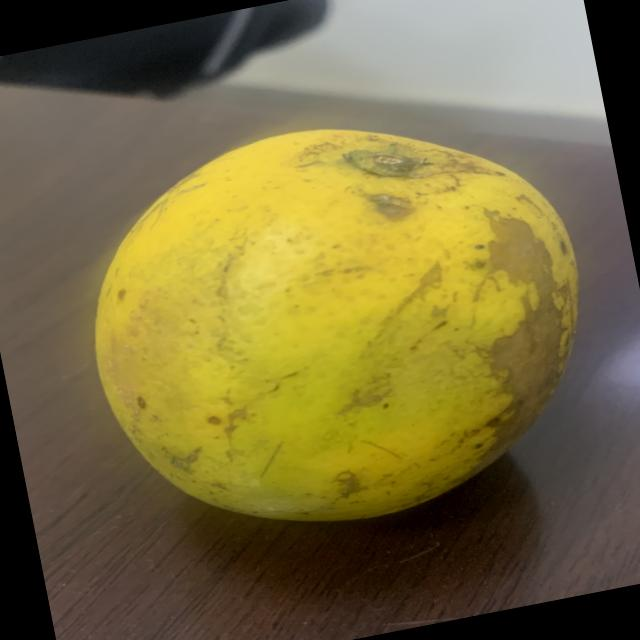Ripe orange: (55, 70, 640, 580)
